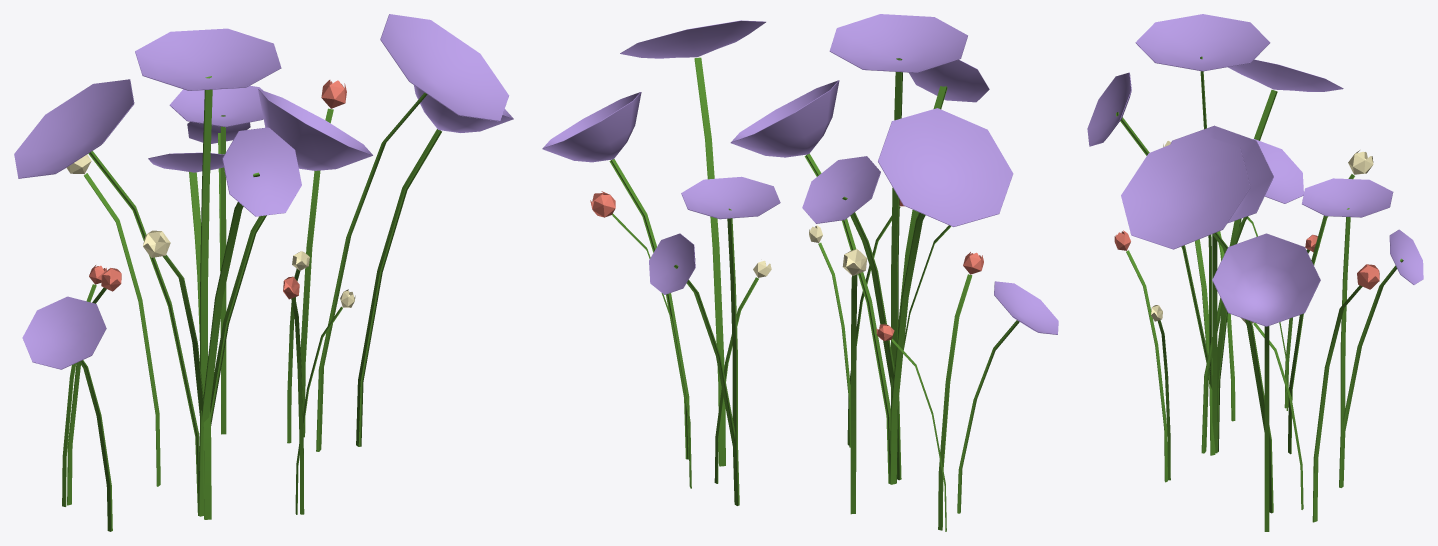
File: flower_patch.fbx
The picture shows the model from 3 angles, left to right: view 1: azimuth 30°, elevation 25°; view 2: azimuth 150°, elevation 25°; view 3: azimuth 270°, elevation 25°; orthographic projection. The views are drawn at different scales.
Parts seen in each view (by area): view 1: flower_patch; view 2: flower_patch; view 3: flower_patch.
Boxes of the visible parts, bbox=[...] form: flower_patch: bbox=[14, 14, 513, 531]; flower_patch: bbox=[542, 14, 1058, 531]; flower_patch: bbox=[1087, 14, 1423, 531].
Size of the model in its own units: 88.17 by 77.53 by 57.16.
Materials: 4 (4 with a texture image).
